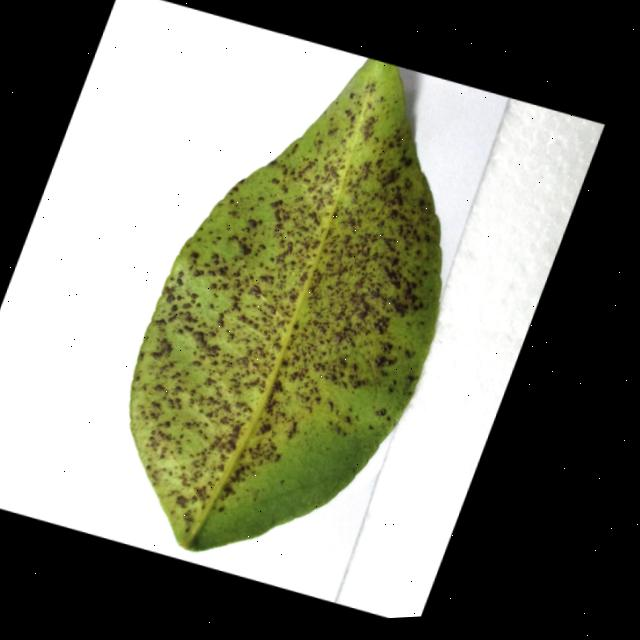melanose: (130, 58, 442, 550)
